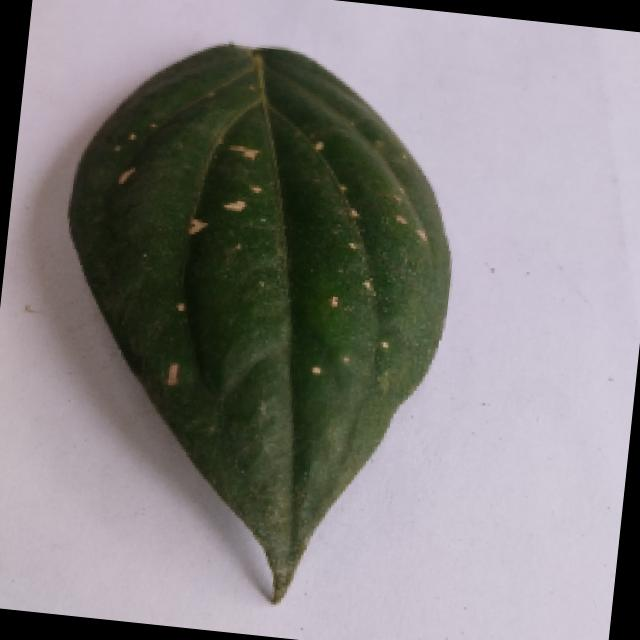pollu-disease: (6, 29, 492, 624)
